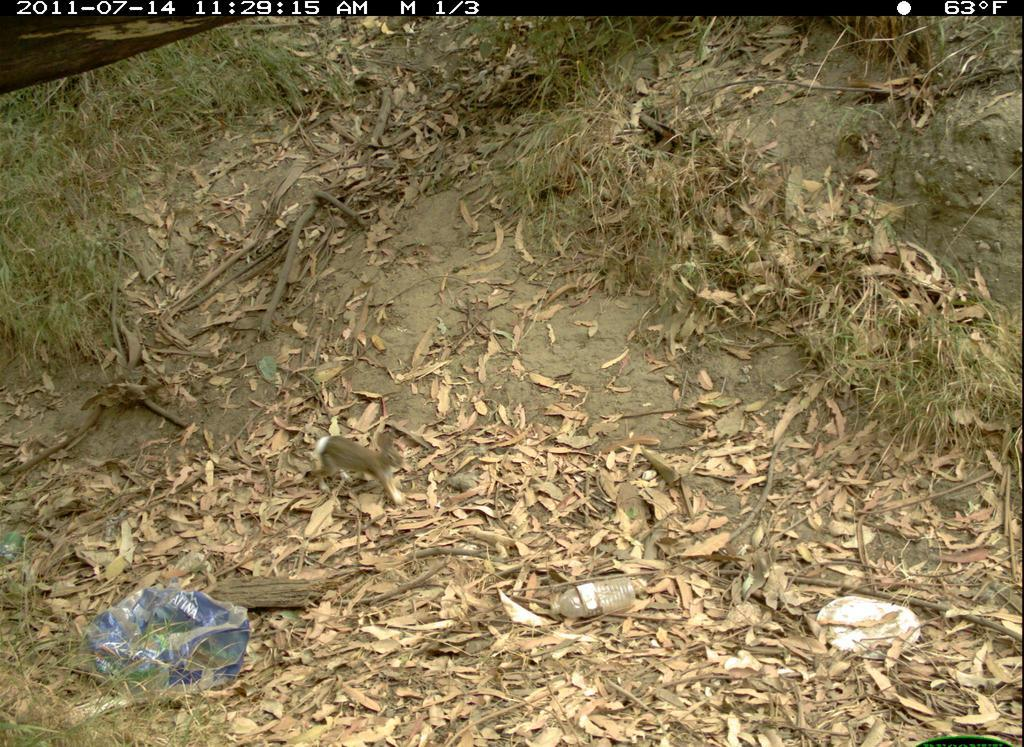rabbit: (313, 427, 422, 523)
